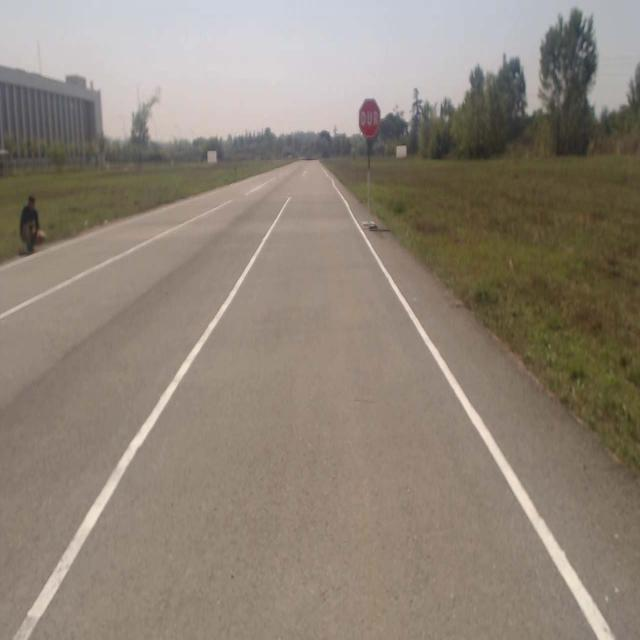dur: (360, 99, 380, 138)
